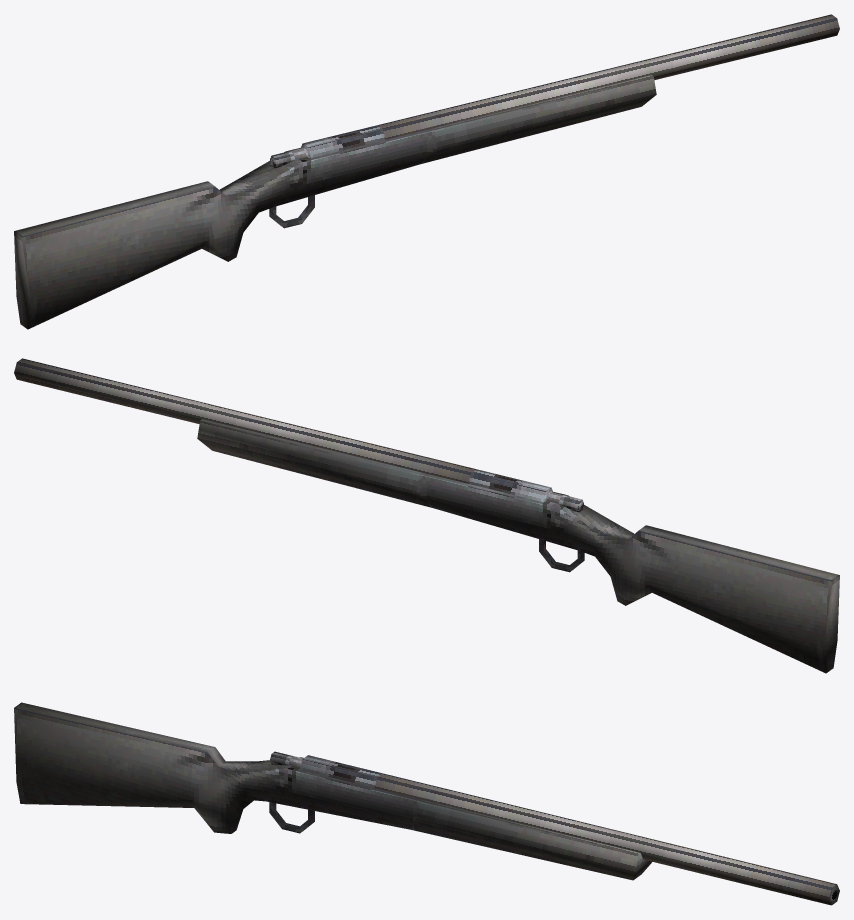
Rendered from remington700__N000_rem700_high_v0100.glb.
The picture shows the model from 3 angles, top to bottom: view 1: azimuth 30°, elevation 25°; view 2: azimuth 150°, elevation 25°; view 3: azimuth 330°, elevation 25°; orthographic projection.
Visible parts, largest first — view 1: N000_rem700_high_v0100; view 2: N000_rem700_high_v0100; view 3: N000_rem700_high_v0100.
Boxes of the visible parts, bbox=[...] form: N000_rem700_high_v0100: bbox=[14, 14, 839, 329]; N000_rem700_high_v0100: bbox=[14, 358, 839, 673]; N000_rem700_high_v0100: bbox=[14, 702, 839, 905].
Bounding box in the file's own units: 1.14 × 0.1498 × 0.0511.
2 materials, 2 textured.
